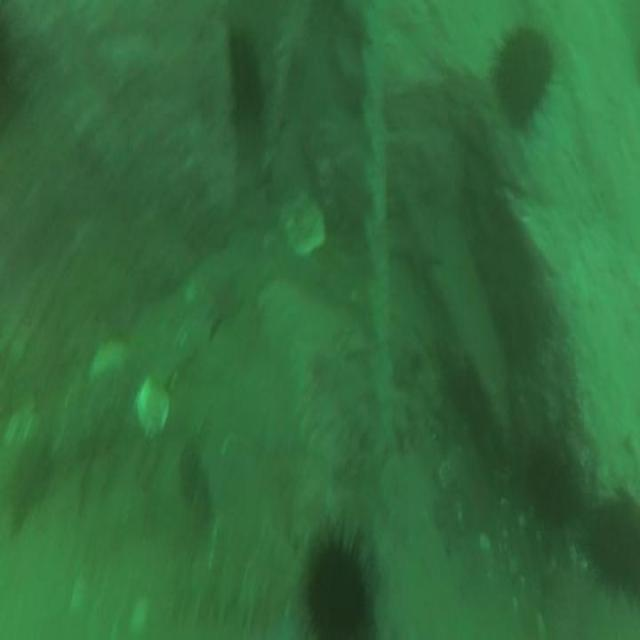echinus: (307, 542, 368, 640), (497, 28, 554, 122), (589, 496, 639, 596), (526, 441, 574, 534), (231, 39, 261, 117)
